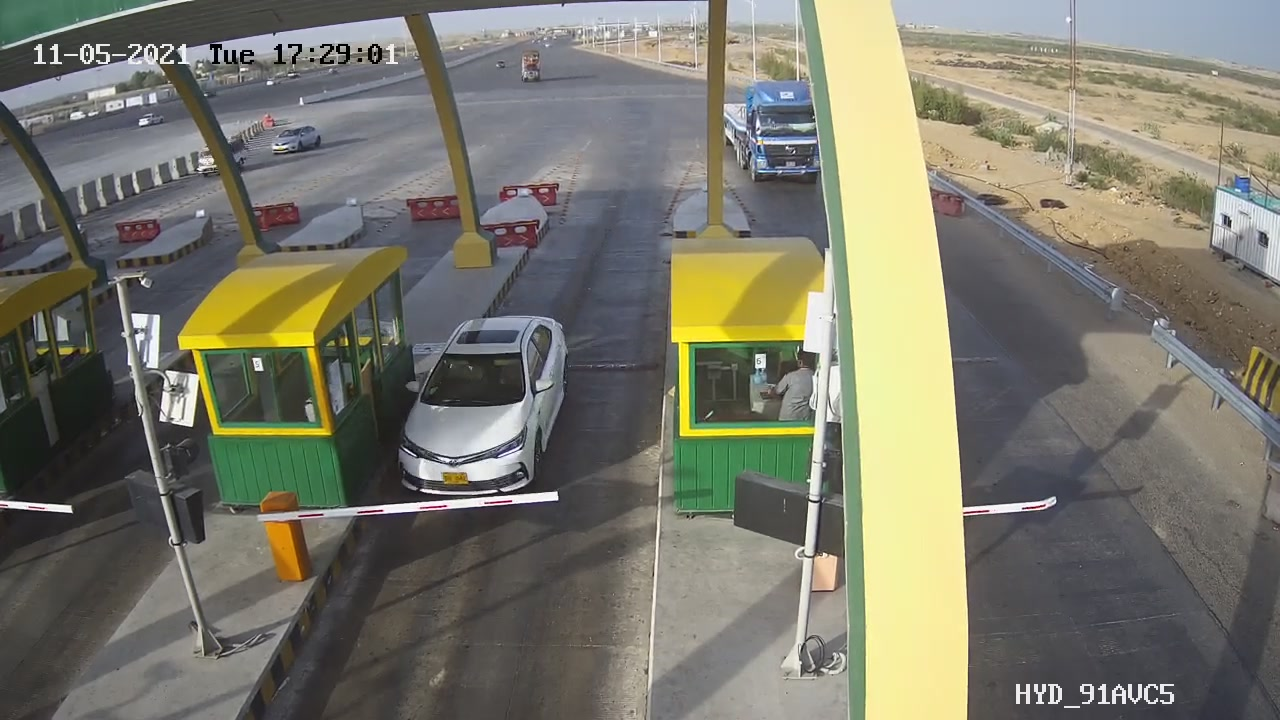F1: (373, 299, 607, 522)
